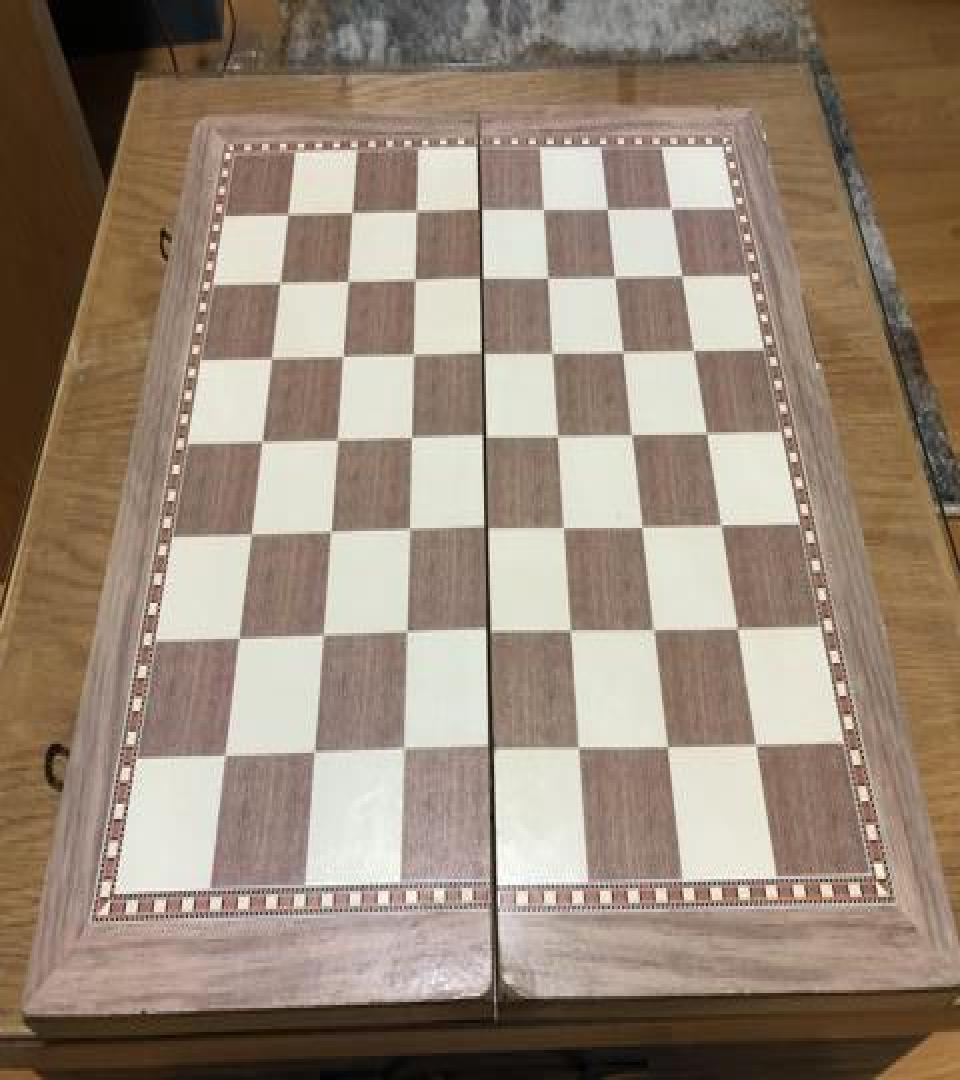xcorner: (319, 514, 343, 551), (643, 610, 667, 647), (395, 616, 419, 653), (391, 733, 415, 770), (213, 739, 237, 776), (660, 190, 684, 226), (597, 192, 621, 228), (534, 194, 558, 230), (470, 195, 494, 231), (407, 195, 431, 231), (343, 196, 367, 232), (279, 198, 303, 234), (671, 258, 695, 294), (538, 261, 562, 297), (471, 262, 495, 298), (405, 264, 429, 300), (338, 264, 362, 300), (271, 266, 295, 302), (682, 332, 706, 368), (613, 333, 637, 369), (543, 334, 567, 370), (473, 336, 497, 372), (403, 338, 427, 374), (332, 339, 356, 375), (262, 340, 286, 376), (695, 414, 719, 450), (622, 416, 646, 452), (548, 417, 572, 453), (474, 418, 498, 454), (400, 422, 424, 458), (326, 423, 350, 459), (252, 424, 276, 460), (709, 506, 733, 542), (632, 507, 656, 543), (554, 510, 578, 546), (476, 512, 500, 548), (398, 513, 422, 549), (240, 518, 264, 554), (725, 608, 749, 644), (561, 612, 585, 648), (478, 615, 502, 651), (311, 620, 335, 656), (228, 621, 252, 657), (744, 724, 768, 760), (656, 726, 680, 762), (568, 729, 592, 765), (480, 732, 504, 768), (303, 736, 327, 772), (604, 260, 628, 295)
